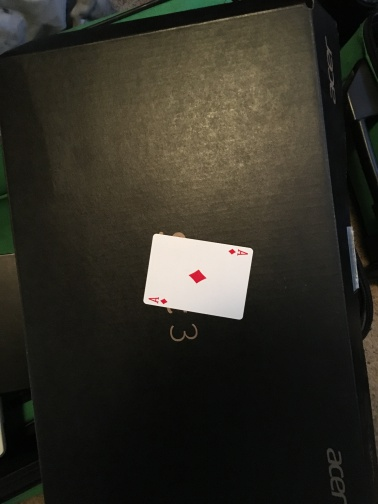ace: (142, 232, 254, 320)
